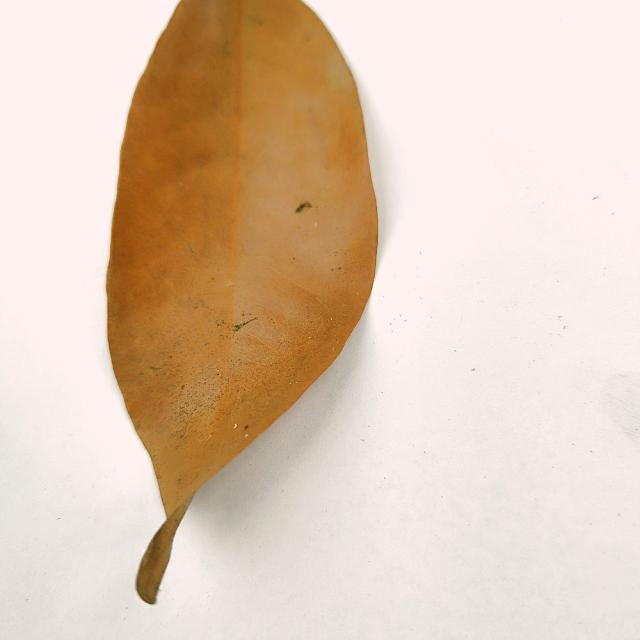Dry_Leaf-Lychee: (105, 0, 380, 607)
